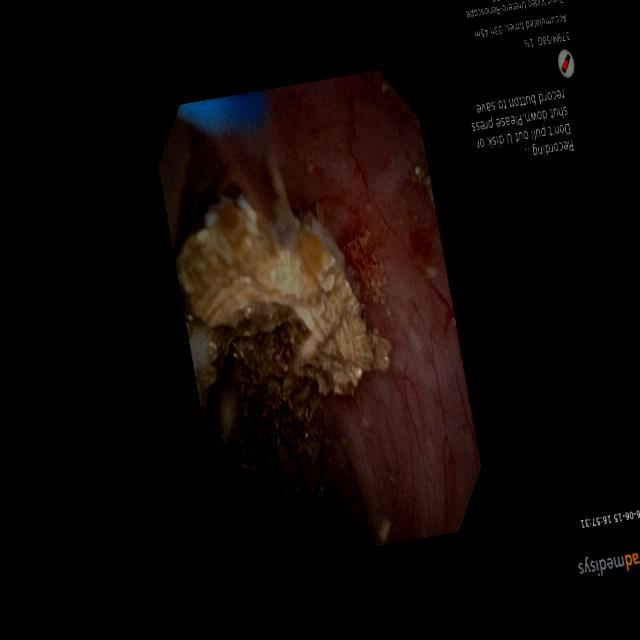laser-fibre: (217, 129, 297, 246)
stone-new: (175, 173, 390, 414)
